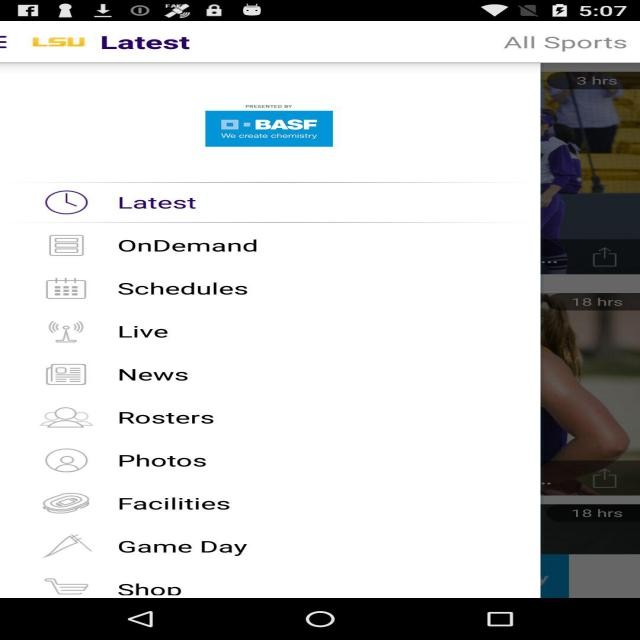icon: (176, 91, 377, 153), (38, 27, 200, 62), (26, 482, 110, 519), (23, 563, 107, 600), (25, 439, 101, 479), (26, 523, 108, 557), (30, 399, 107, 433), (23, 355, 101, 388), (28, 270, 110, 300), (34, 314, 106, 345), (32, 188, 107, 216), (28, 231, 103, 258)
text: (100, 485, 280, 516), (106, 532, 280, 557), (484, 27, 640, 54), (106, 402, 246, 429), (112, 240, 286, 260), (103, 276, 276, 294), (114, 190, 213, 220), (101, 444, 215, 469), (110, 362, 224, 384), (108, 319, 200, 345), (107, 572, 194, 596)
